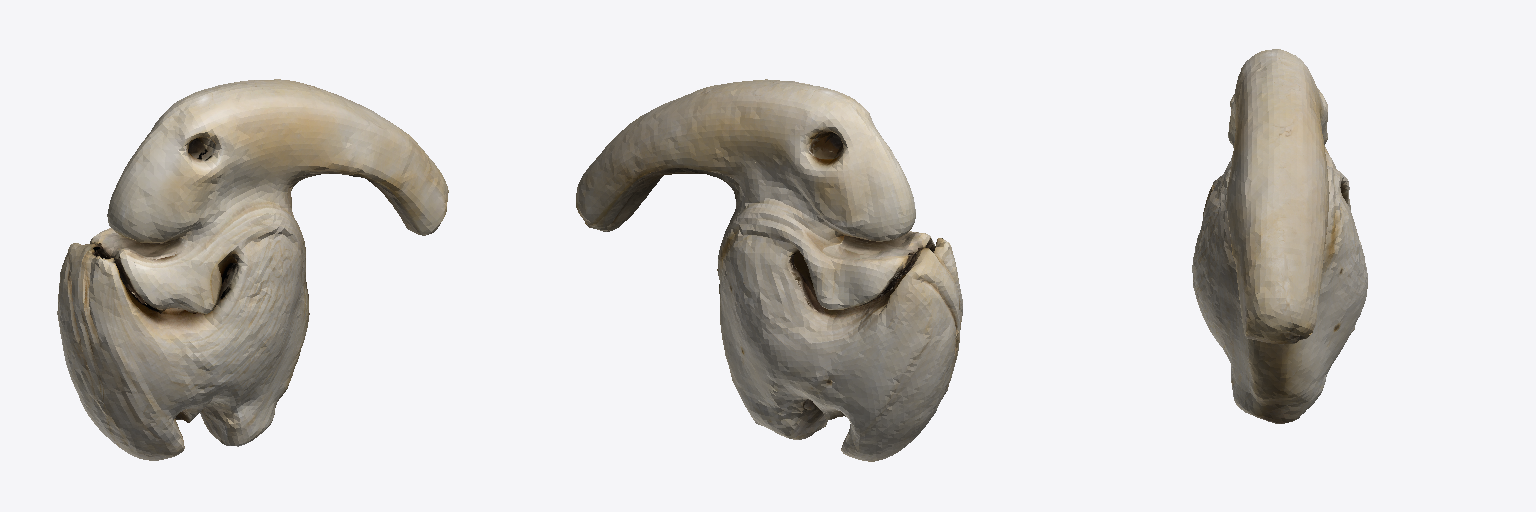
3 views of the same model, side by side, from view 1: azimuth 30°, elevation 25°; view 2: azimuth 150°, elevation 25°; view 3: azimuth 270°, elevation 25° (orthographic).
Visible parts, largest first — view 1: Ancient_Bird_Carving_[number redacted]_texture; view 2: Ancient_Bird_Carving_[number redacted]_texture; view 3: Ancient_Bird_Carving_[number redacted]_texture.
Part boxes in pixels (left/top/right/bottom): Ancient_Bird_Carving_[number redacted]_texture: left=57, top=79, right=448, bottom=460; Ancient_Bird_Carving_[number redacted]_texture: left=576, top=79, right=962, bottom=461; Ancient_Bird_Carving_[number redacted]_texture: left=1192, top=49, right=1367, bottom=423.
Size of the model in its own units: 1.67 by 1.52 by 0.6867.
1 materials, 1 textured.